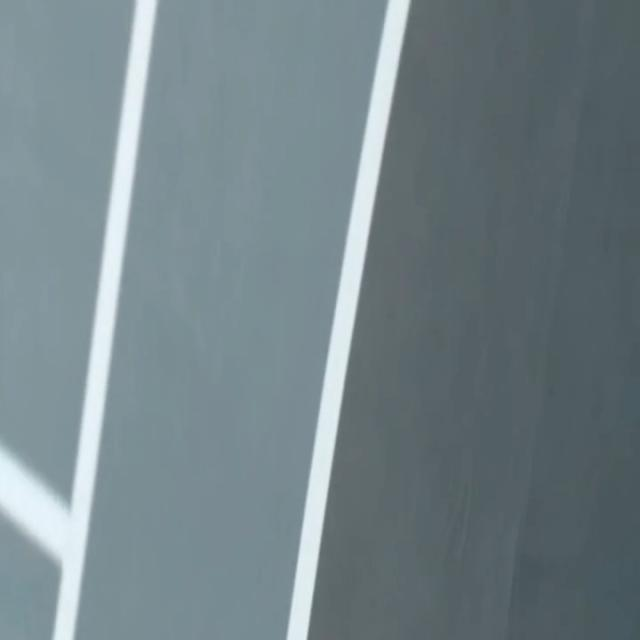left: (286, 0, 410, 639)
